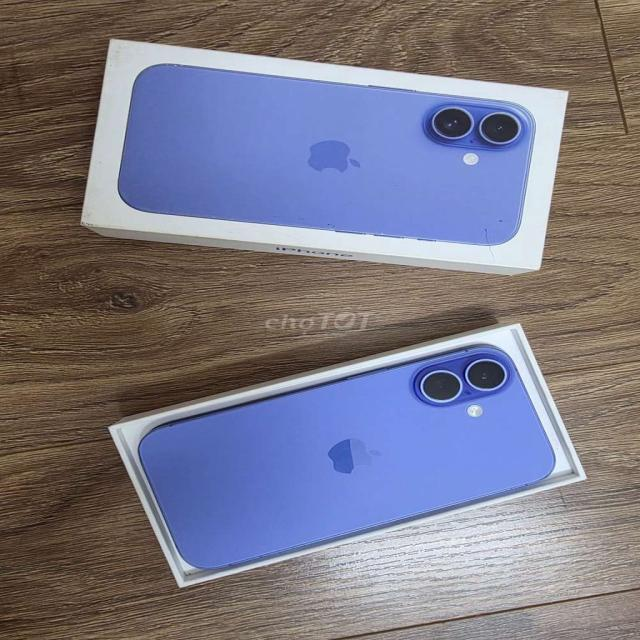gen_16: (139, 347, 555, 569)
